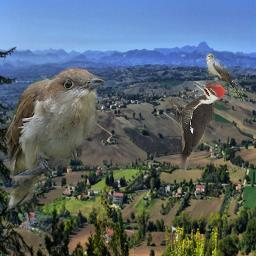Cuckoo: (3, 66, 105, 212), (206, 53, 244, 102)
Woodpecker: (169, 81, 227, 176)
